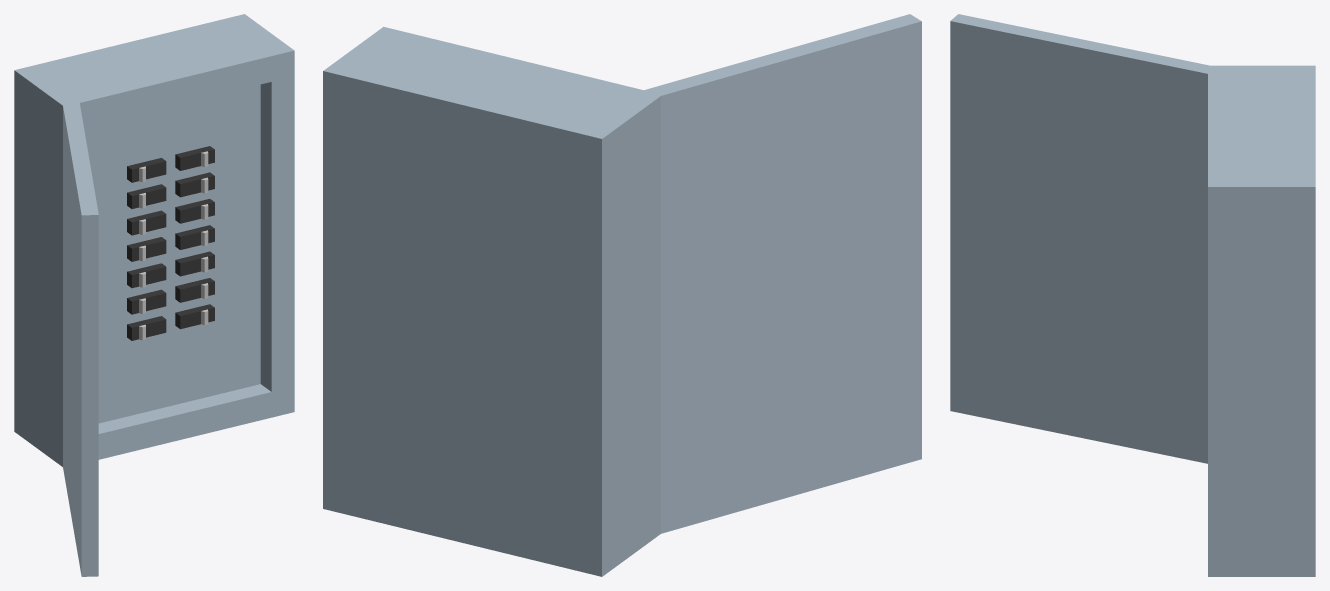
The model's file is BreakerBox.fbx.
3 renders of one model, left to right at view 1: azimuth 30°, elevation 25°; view 2: azimuth 150°, elevation 25°; view 3: azimuth 270°, elevation 25°, orthographic. The views are drawn at different scales.
Parts seen in each view (by area): view 1: Cube, Cube.001; view 2: Cube, Cube.001; view 3: Cube.001, Cube.
Boxes of the visible parts, bbox=[...] form: Cube: bbox=[14, 14, 294, 466]; Cube.001: bbox=[62, 102, 98, 576]; Cube: bbox=[323, 26, 660, 576]; Cube.001: bbox=[644, 14, 921, 533]; Cube.001: bbox=[950, 14, 1215, 463]; Cube: bbox=[1208, 65, 1315, 576].
Bounding box in the file's own units: 285 × 300 × 255.
